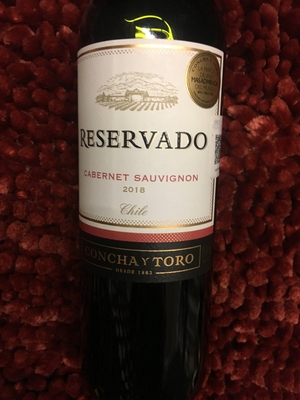reservado cabernet sauvignon: (67, 12, 229, 385)
